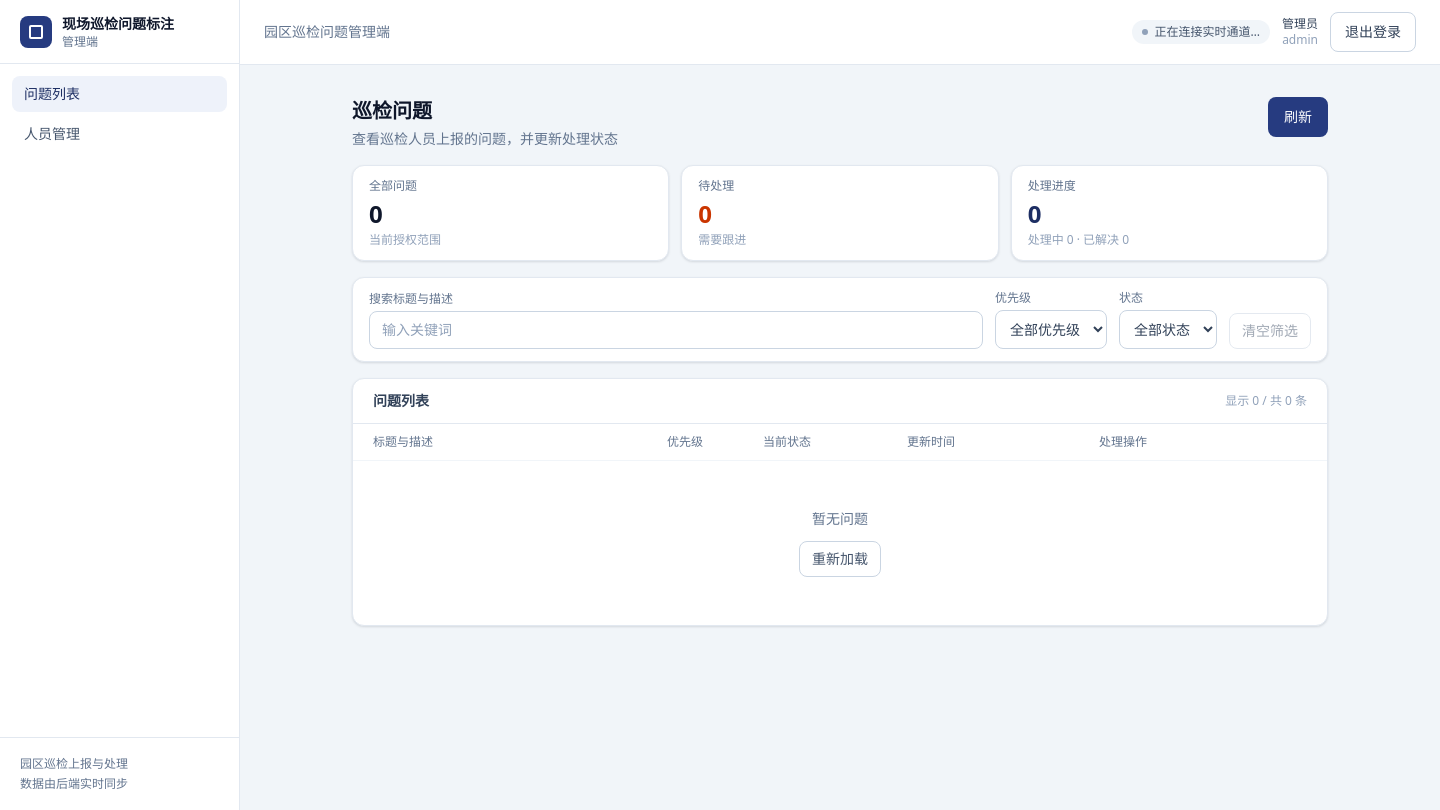
Scenario: 会话门控 › 退出后回到登录页
Click the button "退出登录": click(1373, 32) [1330,12,1416,52]
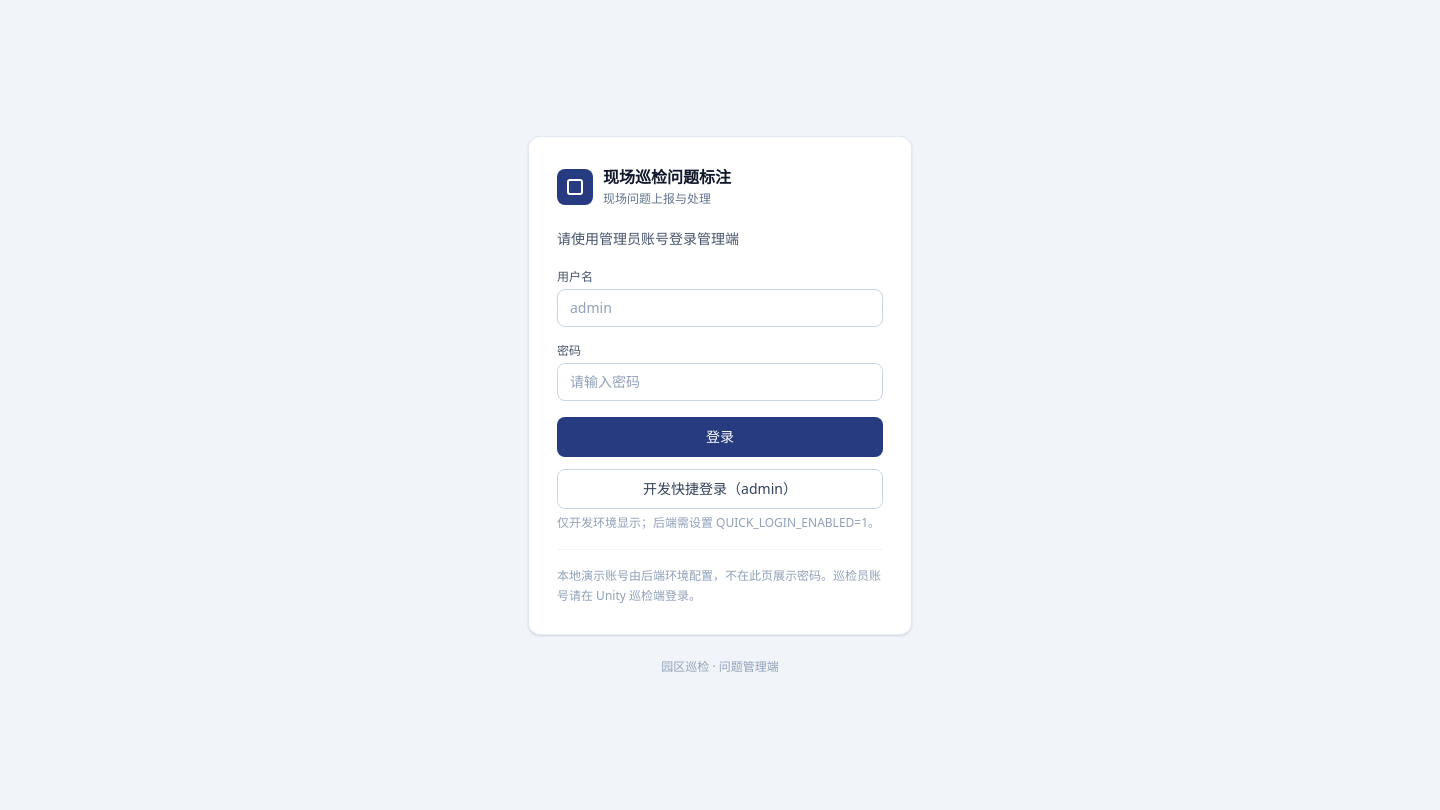
Result: the button "登录" is shown at [557,416,883,456]
